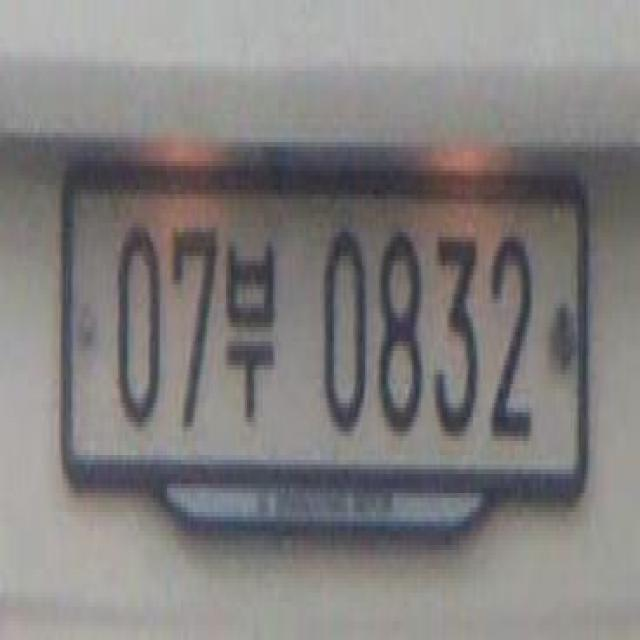illegal_plate: (60, 150, 597, 543)
